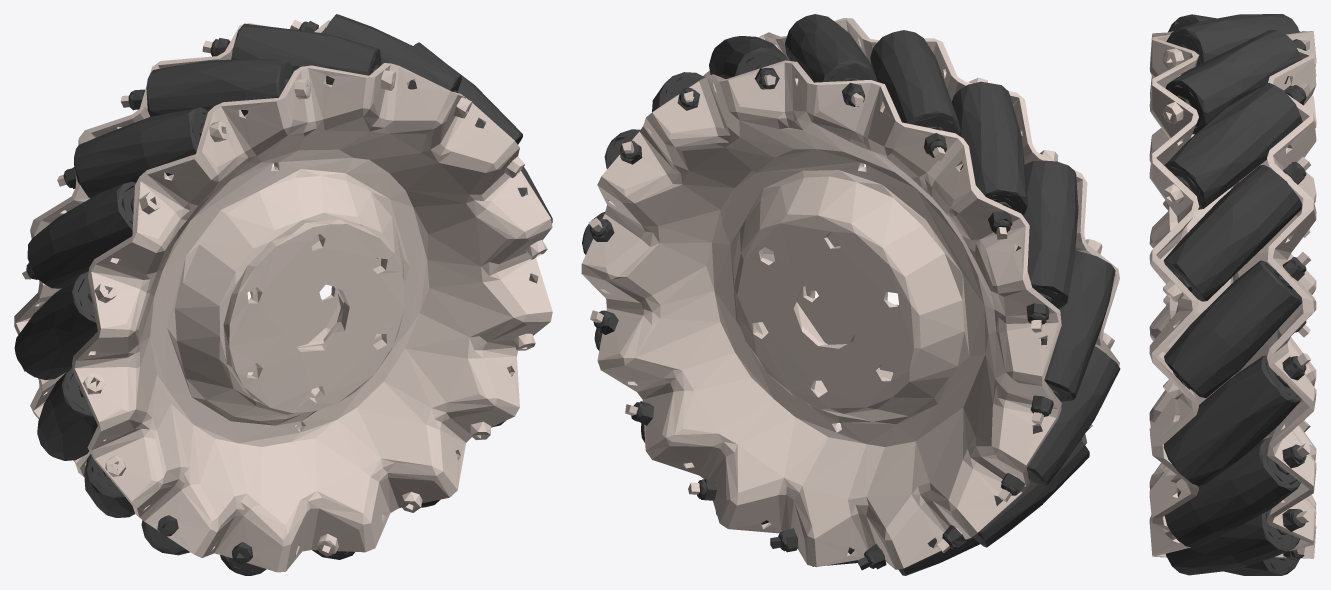
The model's file is wheel_right.dae.
3 views of the same model, side by side, from view 1: azimuth 30°, elevation 25°; view 2: azimuth 150°, elevation 25°; view 3: azimuth 270°, elevation 25° (orthographic).
Parts seen in each view (by area): view 1: wheel_rf; view 2: wheel_rf; view 3: wheel_rf.
Boxes of the visible parts, <box> form: wheel_rf: <box>14,14,552,575</box>; wheel_rf: <box>581,14,1120,575</box>; wheel_rf: <box>1149,14,1316,575</box>.
Bounding box in the file's own units: 0.1523 × 0.0452 × 0.1523.
